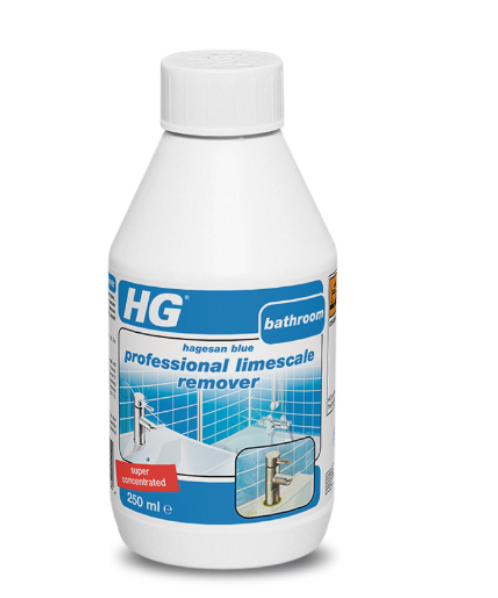Cleaning_solution: (99, 43, 337, 574)
